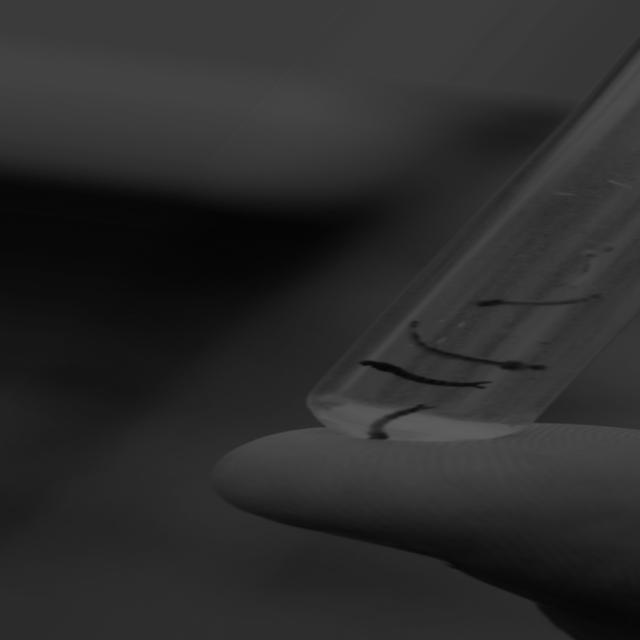larvas: (413, 322, 542, 373), (363, 359, 483, 388), (368, 399, 433, 438), (480, 294, 591, 316)
